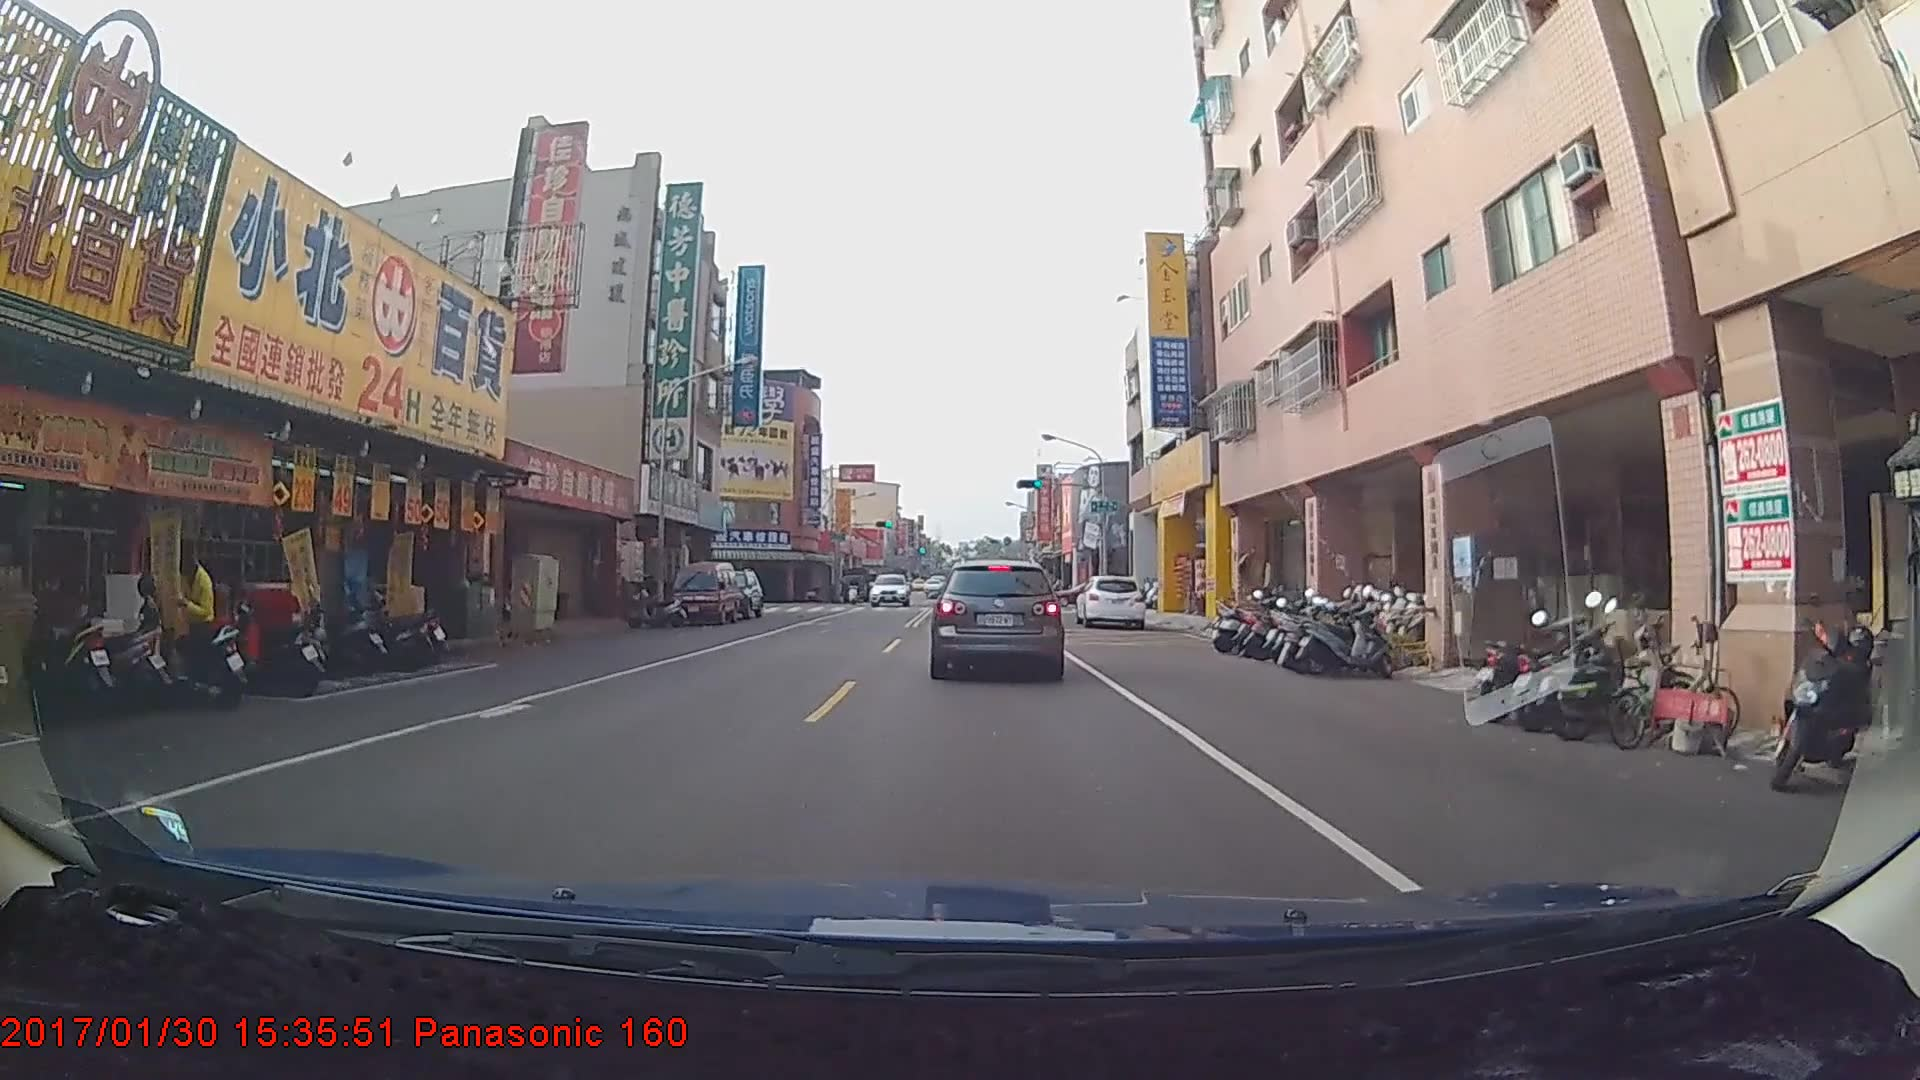pedestrian: (168, 549, 219, 707)
vehicle: (932, 558, 1061, 678), (671, 559, 739, 626), (1075, 575, 1146, 630), (868, 568, 905, 600)
